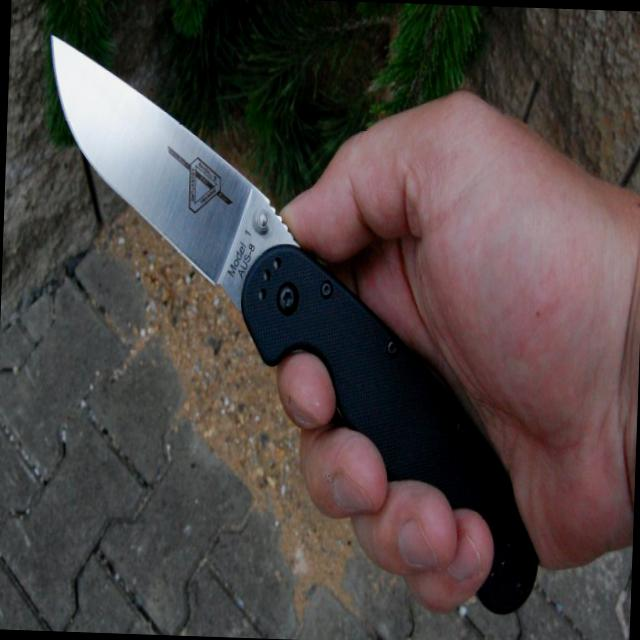knife: (24, 18, 514, 616)
